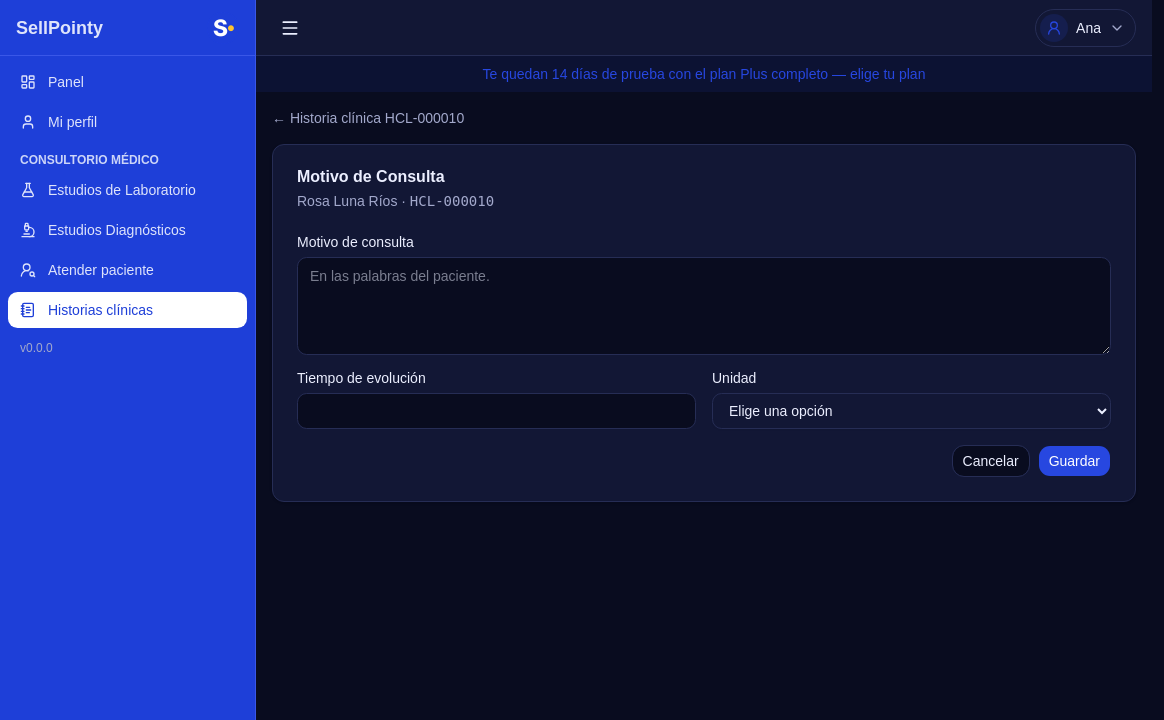
it: sección de una consulta vencida › si el día cambia mientras se captura, el error no borra lo tecleado
This screenshot has width=1164, height=720.
In the text box labelled "Motivo de consulta": (704, 306) 297,257 -> 1111,355, type "Dolor de garganta"
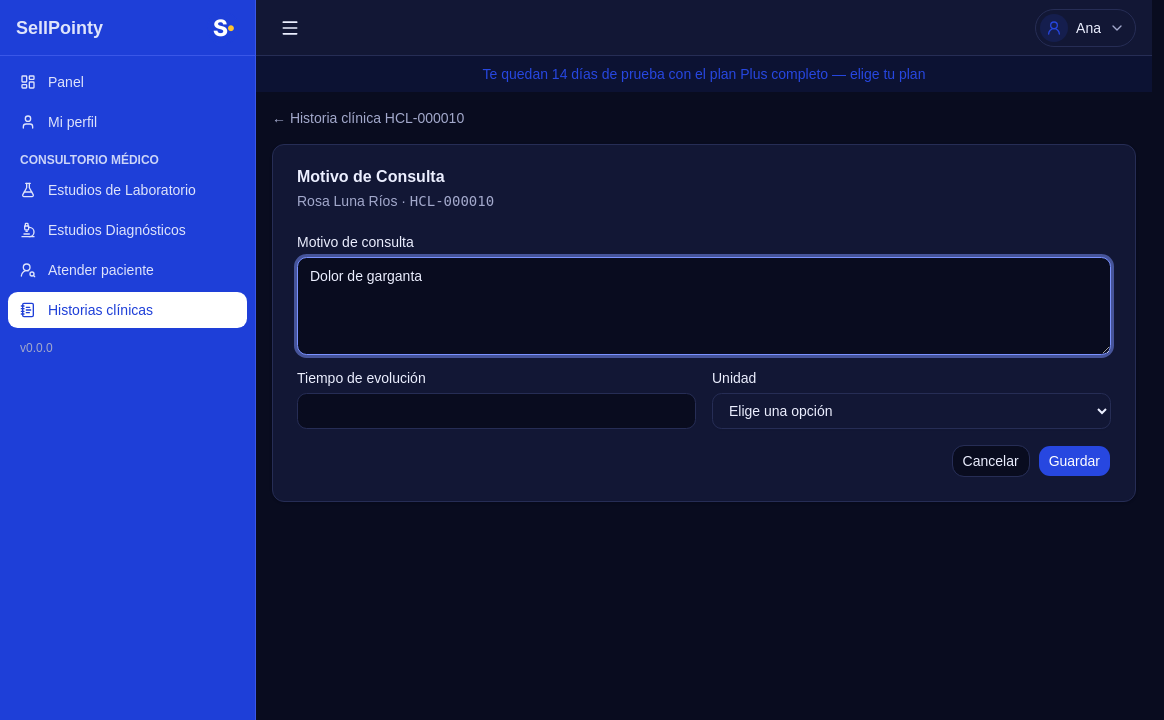
Click the button "Guardar": click(1074, 461) 1038,445 -> 1111,477
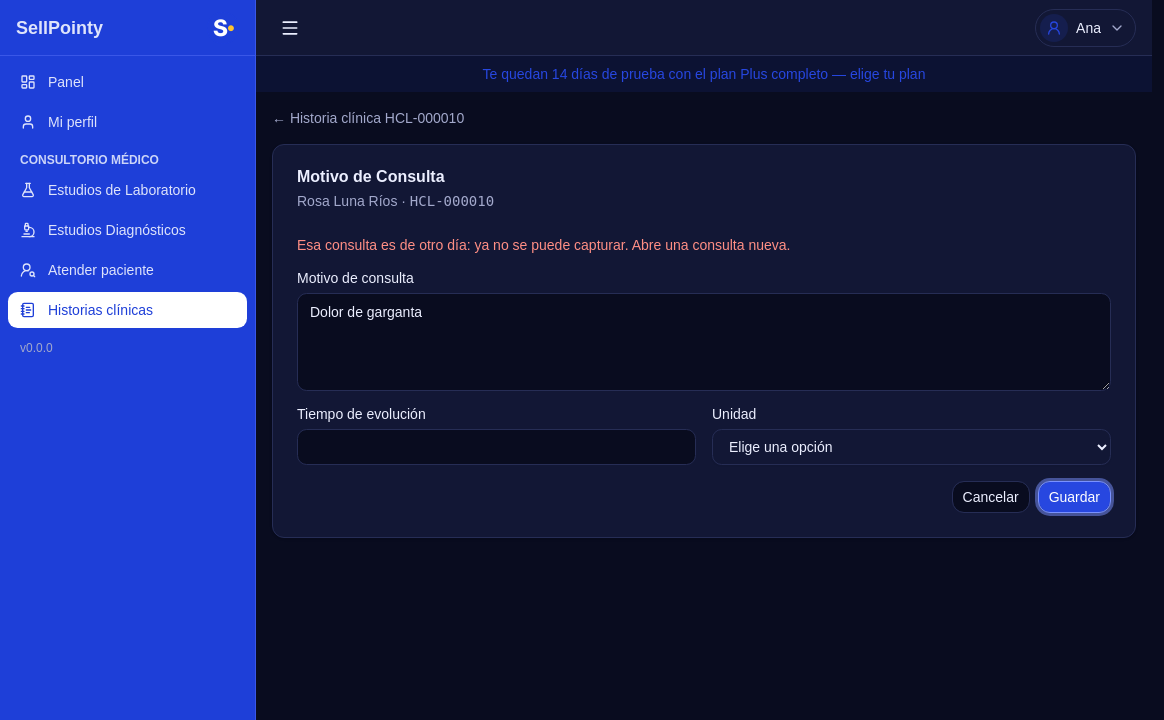
Expected: the message reads "Esa consulta es de otro día: ya no se puede capturar. Abre una consulta nueva.", 297,237 -> 790,253
